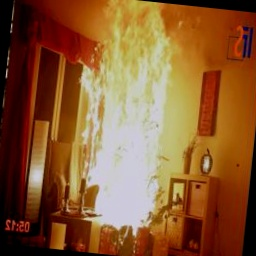fire: (73, 0, 194, 238)
